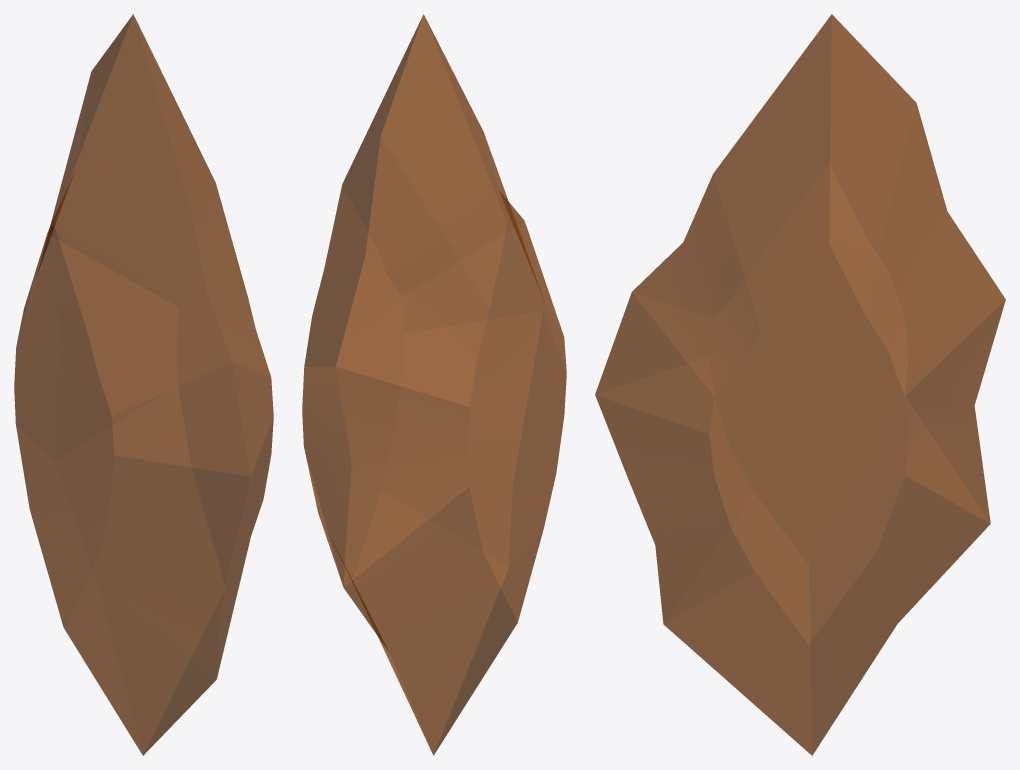
File: SugarCrystal.FBX
3 renders of one model, left to right at view 1: azimuth 30°, elevation 25°; view 2: azimuth 150°, elevation 25°; view 3: azimuth 270°, elevation 25°, orthographic.
Parts seen in each view (by area): view 1: Box001; view 2: Box001; view 3: Box001.
Boxes of the visible parts, x1,y1,x2,y2 form: Box001: (14,14,273,755); Box001: (302,14,566,755); Box001: (595,14,1005,755).
Size of the model in its own units: 20.16 by 87.25 by 43.79.
